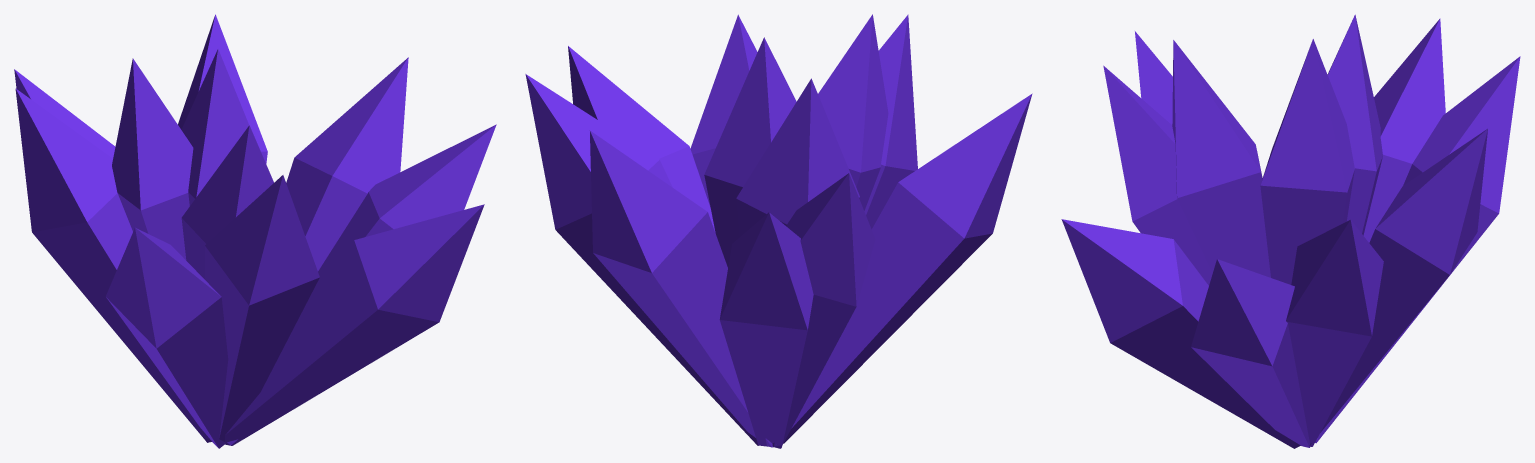
Rendered from MineralCollectable.glb.
3 views of the same model, side by side, from view 1: azimuth 30°, elevation 25°; view 2: azimuth 150°, elevation 25°; view 3: azimuth 270°, elevation 25° (orthographic). The views are drawn at different scales.
Parts seen in each view (by area): view 1: Stroke7, Stroke8, Stroke2, Stroke6, Stroke11, Stroke10, Stroke5, Stroke3, Stroke1, Stroke4, Stroke9; view 2: Stroke6, Stroke4, Stroke9, Stroke2, Stroke11, Stroke10, Stroke1, Stroke3, Stroke5, Stroke8, Stroke7; view 3: Stroke7, Stroke4, Stroke3, Stroke11, Stroke1, Stroke5, Stroke8, Stroke2, Stroke9, Stroke10, Stroke6.
Boxes of the visible parts, x1=… form: Stroke7: x1=225, y1=204, x2=484, y2=445; Stroke8: x1=205, y1=175, x2=319, y2=441; Stroke2: x1=15, y1=88, x2=211, y2=442; Stroke6: x1=106, y1=227, x2=228, y2=448; Stroke11: x1=286, y1=57, x2=408, y2=270; Stroke10: x1=112, y1=58, x2=193, y2=260; Stroke5: x1=227, y1=124, x2=496, y2=445; Stroke3: x1=181, y1=125, x2=273, y2=279; Stroke1: x1=181, y1=49, x2=249, y2=205; Stroke4: x1=178, y1=14, x2=267, y2=163; Stroke9: x1=14, y1=69, x2=211, y2=442; Stroke6: x1=776, y1=93, x2=1032, y2=444; Stroke4: x1=590, y1=130, x2=772, y2=447; Stroke9: x1=719, y1=212, x2=813, y2=448; Stroke2: x1=773, y1=173, x2=875, y2=448; Stroke11: x1=525, y1=74, x2=758, y2=445; Stroke10: x1=736, y1=78, x2=859, y2=446; Stroke1: x1=704, y1=37, x2=796, y2=267; Stroke3: x1=818, y1=14, x2=888, y2=210; Stroke5: x1=568, y1=46, x2=715, y2=232; Stroke8: x1=864, y1=14, x2=917, y2=229; Stroke7: x1=690, y1=14, x2=757, y2=207; Stroke7: x1=1061, y1=219, x2=1300, y2=448; Stroke4: x1=1309, y1=128, x2=1487, y2=445; Stroke3: x1=1172, y1=40, x2=1270, y2=277; Stroke11: x1=1286, y1=220, x2=1383, y2=446; Stroke1: x1=1260, y1=39, x2=1354, y2=284; Stroke5: x1=1191, y1=259, x2=1310, y2=447; Stroke8: x1=1103, y1=65, x2=1212, y2=285; Stroke2: x1=1316, y1=18, x2=1445, y2=439; Stroke9: x1=1315, y1=56, x2=1520, y2=443; Stroke10: x1=1327, y1=14, x2=1382, y2=235; Stroke6: x1=1135, y1=31, x2=1172, y2=124.
Bounding box in the file's own units: 3.29 × 3.07 × 3.13.
